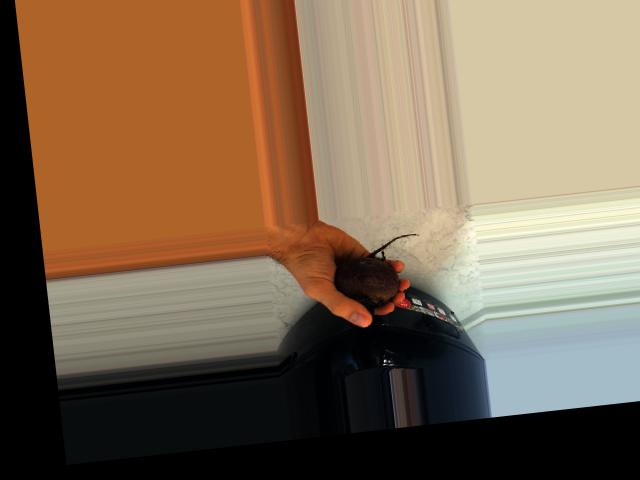beet: (330, 232, 427, 318)
